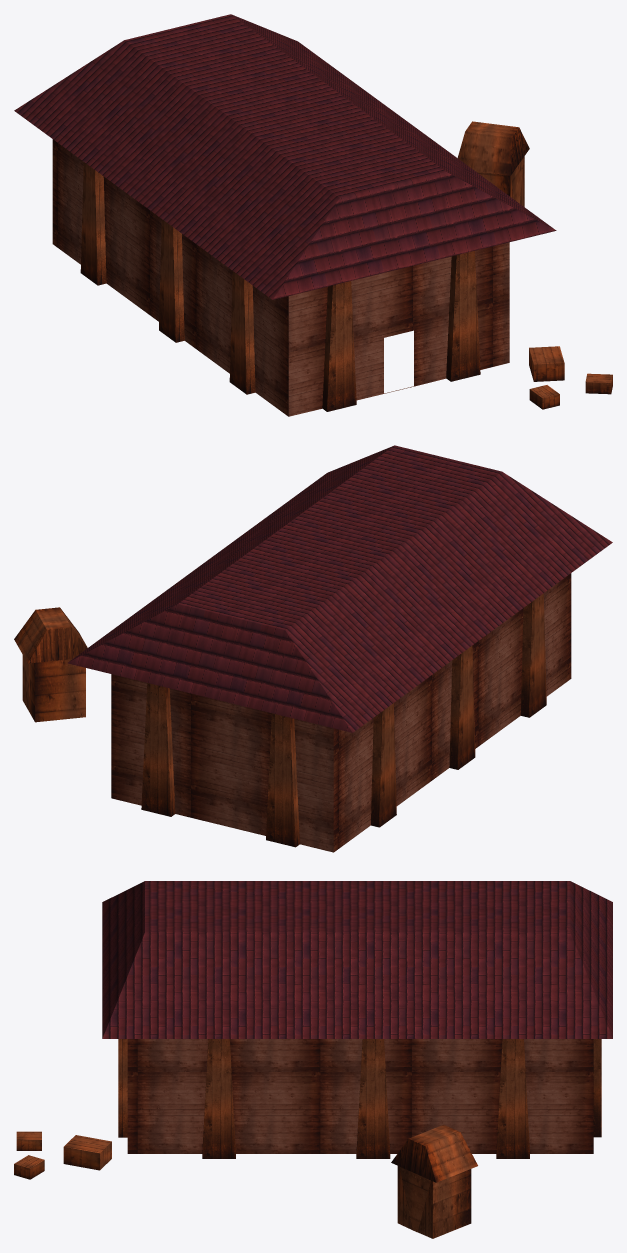
Rendered from hutV2.fbx.
The picture shows the model from 3 angles, top to bottom: view 1: azimuth 30°, elevation 25°; view 2: azimuth 150°, elevation 25°; view 3: azimuth 270°, elevation 25°; orthographic projection.
Parts seen in each view (by area): view 1: pCube2, pCube1, pCube6, pCube7, pCube11, pCube3, pCube5, pCube4, pCube14, pCube10, pCube12, pCube13; view 2: pCube2, pCube1, pCube9, pCube8, pCube10, pCube11, pCube4, pCube5, pCube3; view 3: pCube2, pCube1, pCube10, pCube4, pCube5, pCube3, pCube11, pCube14, pCube6, pCube8, pCube13, pCube12.
Part boxes in pixels (x1,y1,x2,y2): pCube2: [14, 14, 556, 299]; pCube1: [52, 139, 509, 416]; pCube6: [446, 251, 480, 381]; pCube7: [322, 281, 356, 411]; pCube11: [457, 121, 529, 175]; pCube3: [80, 162, 106, 285]; pCube5: [229, 271, 255, 394]; pCube4: [159, 219, 184, 342]; pCube14: [529, 346, 564, 381]; pCube10: [476, 156, 524, 206]; pCube12: [529, 385, 559, 409]; pCube13: [585, 373, 612, 394]; pCube2: [67, 445, 612, 732]; pCube1: [111, 573, 571, 852]; pCube9: [266, 713, 299, 847]; pCube8: [141, 683, 175, 816]; pCube10: [22, 655, 85, 722]; pCube11: [14, 607, 87, 663]; pCube4: [449, 646, 475, 769]; pCube5: [520, 593, 546, 717]; pCube3: [371, 703, 396, 827]; pCube2: [102, 881, 612, 1038]; pCube1: [127, 1039, 593, 1153]; pCube10: [397, 1166, 471, 1238]; pCube4: [356, 1039, 390, 1158]; pCube5: [496, 1039, 529, 1158]; pCube3: [202, 1039, 235, 1158]; pCube11: [391, 1124, 477, 1182]; pCube14: [63, 1135, 111, 1170]; pCube6: [118, 1039, 127, 1137]; pCube8: [593, 1039, 601, 1137]; pCube13: [14, 1155, 44, 1179]; pCube12: [16, 1131, 41, 1150].
Size of the model in its own units: 9.38 by 4.24 by 11.57.
